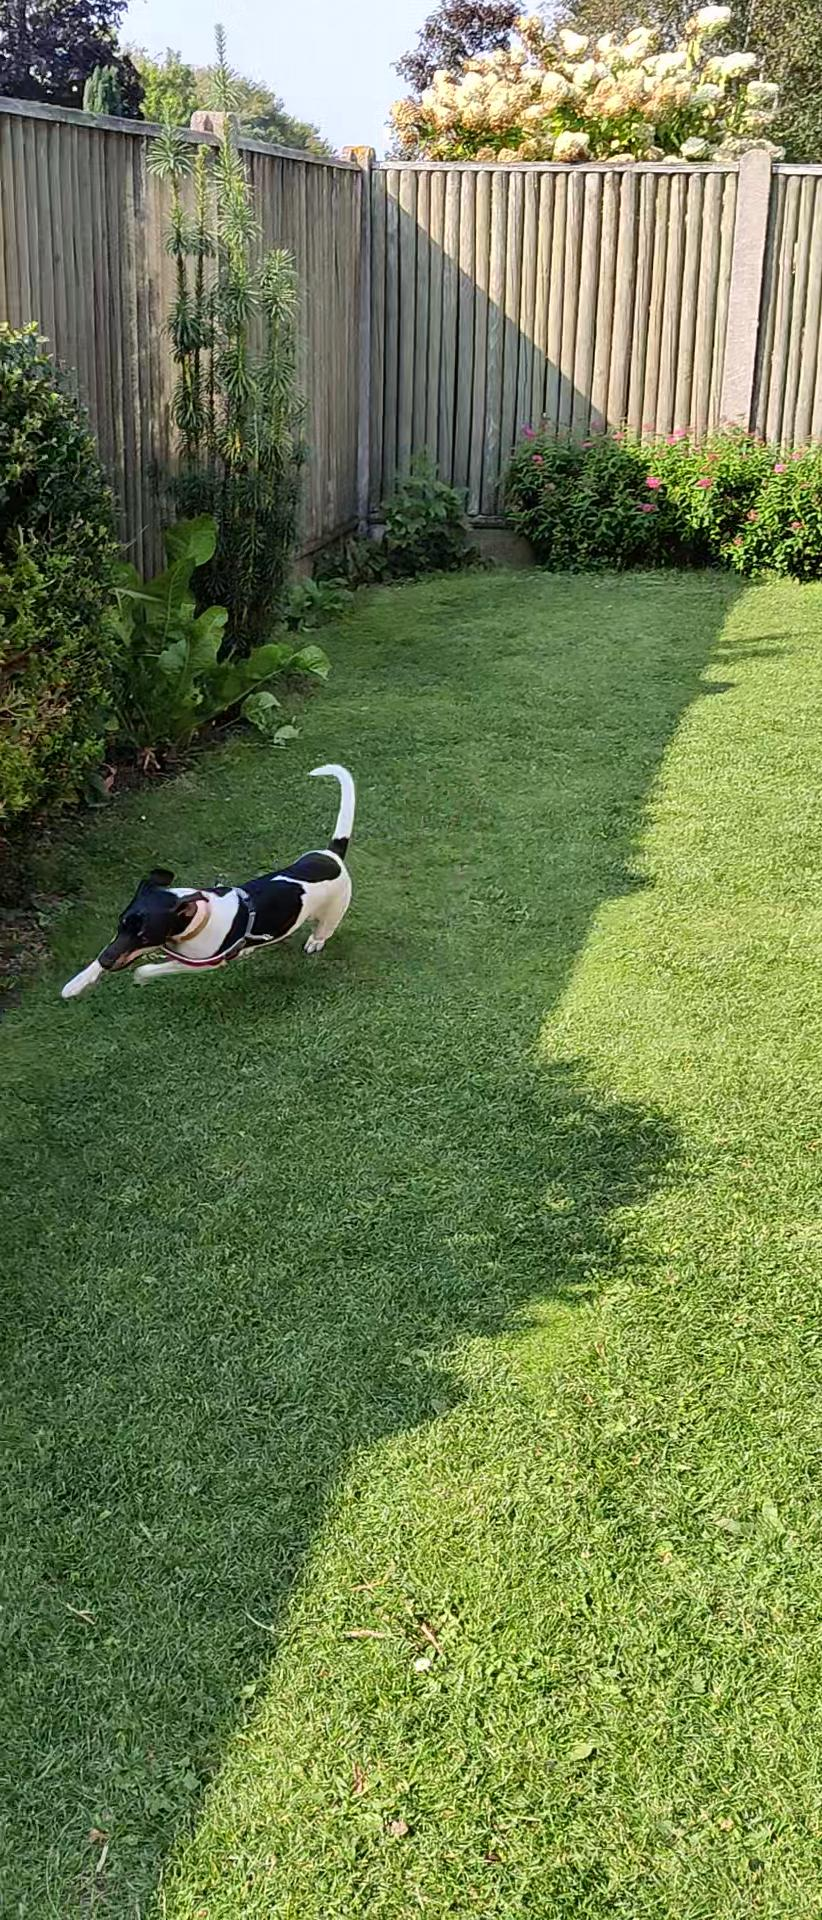Dog: (49, 757, 369, 1004)
